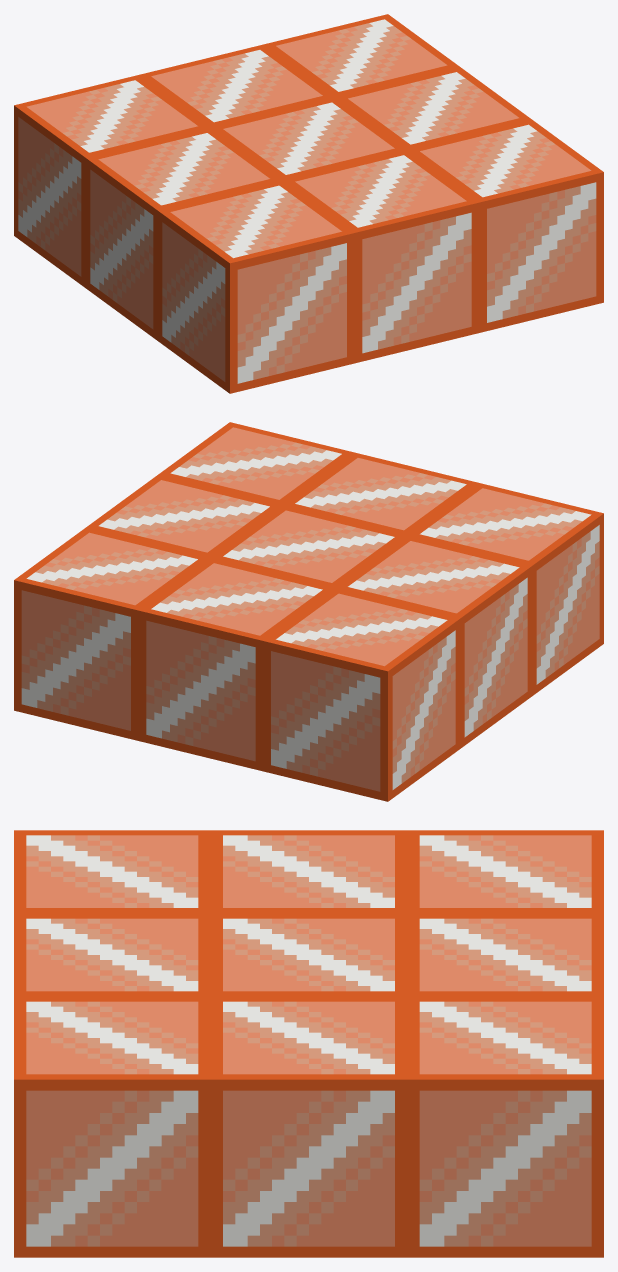
Rendered from alter_tiles_orange3x3.fbx.
3 views of the same model, one above another, from view 1: azimuth 30°, elevation 25°; view 2: azimuth 150°, elevation 25°; view 3: azimuth 270°, elevation 25° (orthographic). The views are drawn at different scales.
Visible parts, largest first — view 1: alter_tiles_orange3x3; view 2: alter_tiles_orange3x3; view 3: alter_tiles_orange3x3.
Part boxes in pixels (x1=…): alter_tiles_orange3x3: x1=14, y1=14, x2=603, y2=393; alter_tiles_orange3x3: x1=14, y1=422, x2=603, y2=801; alter_tiles_orange3x3: x1=14, y1=830, x2=603, y2=1257.
Bounding box in the file's own units: 4.8 × 1.6 × 4.8.
1 material, 1 textured.
